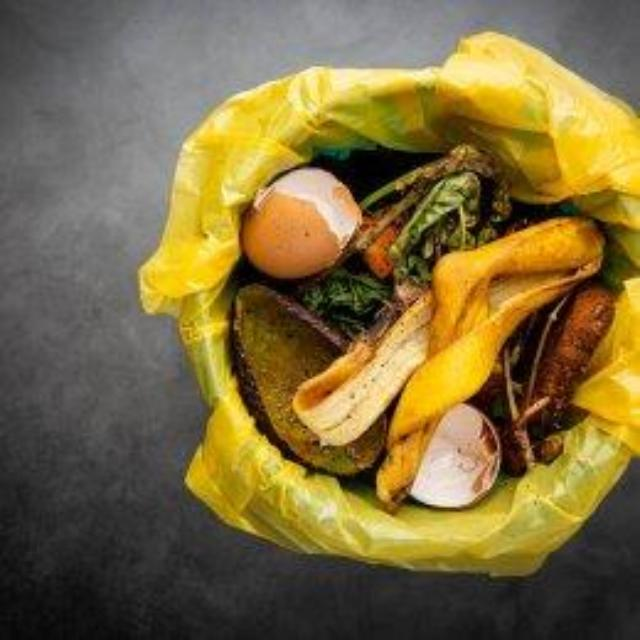Garbage: (231, 145, 640, 508)
